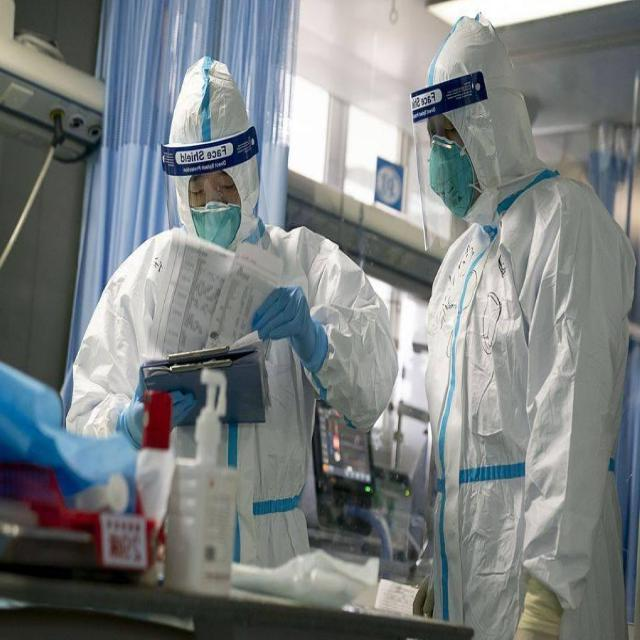gloves: (252, 284, 326, 376), (116, 374, 195, 446)
